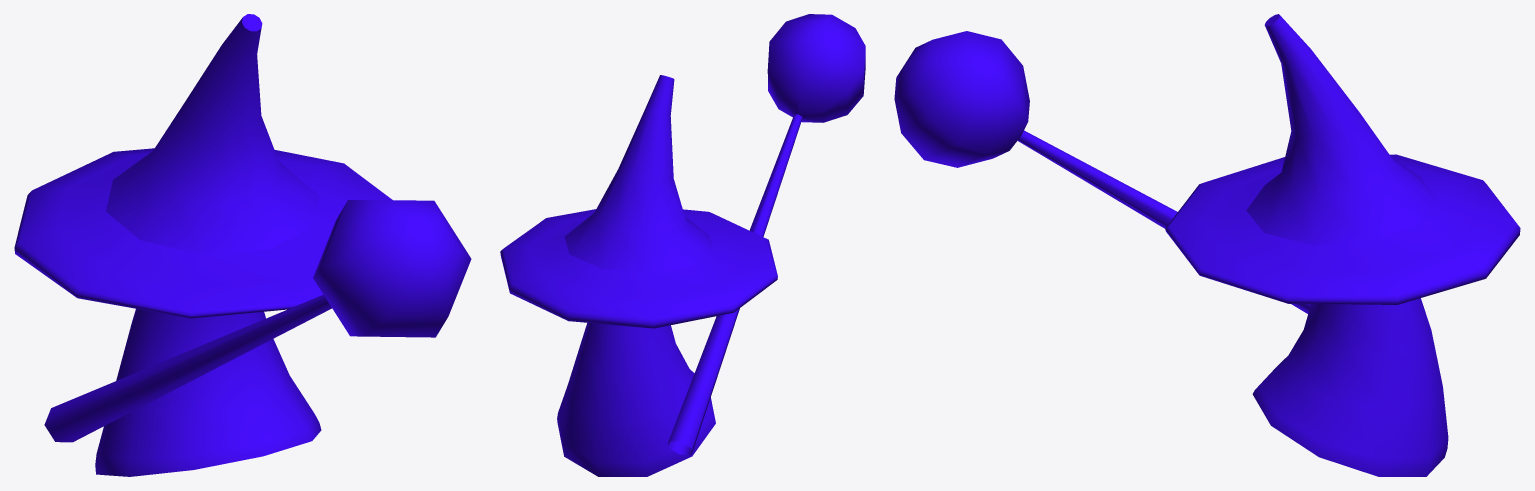
Rendered from MinionMage.fbx.
The picture shows the model from 3 angles, left to right: view 1: azimuth 30°, elevation 25°; view 2: azimuth 150°, elevation 25°; view 3: azimuth 270°, elevation 25°; orthographic projection. The views are drawn at different scales.
Visible parts, largest first — view 1: MinionMage; view 2: MinionMage; view 3: MinionMage.
Boxes of the visible parts, left/top/right/bottom form: MinionMage: left=14, top=14, right=471, bottom=476; MinionMage: left=500, top=14, right=865, bottom=476; MinionMage: left=894, top=14, right=1520, bottom=476.
Size of the model in its own units: 0.4765 by 0.6879 by 0.8828.
